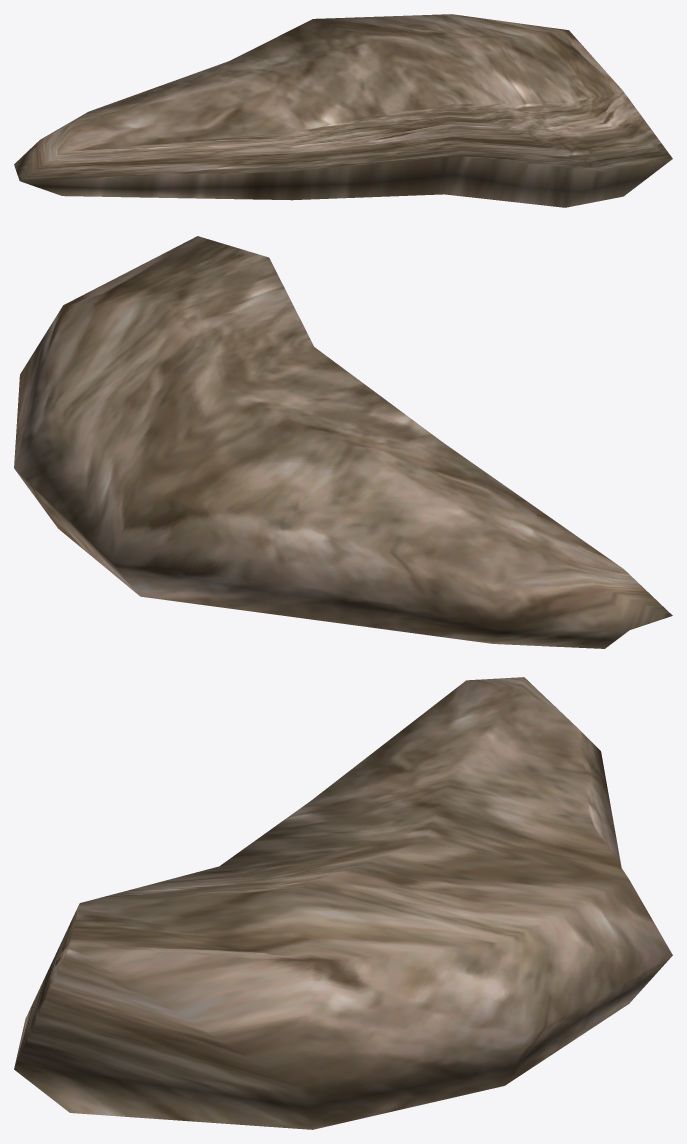
The model's file is OVERHILL_A_01_LINE343.fbx.
3 views of the same model, one above another, from view 1: azimuth 30°, elevation 25°; view 2: azimuth 150°, elevation 25°; view 3: azimuth 270°, elevation 25° (orthographic). The views are drawn at different scales.
Parts seen in each view (by area): view 1: OVERHILL_A_01_LINE343; view 2: OVERHILL_A_01_LINE343; view 3: OVERHILL_A_01_LINE343.
Part boxes in pixels (x1=…): OVERHILL_A_01_LINE343: x1=14, y1=14, x2=672, y2=207; OVERHILL_A_01_LINE343: x1=14, y1=236, x2=672, y2=648; OVERHILL_A_01_LINE343: x1=14, y1=677, x2=672, y2=1129.
Size of the model in its own units: 59355 by 12546 by 40020.
1 material, 1 textured.
